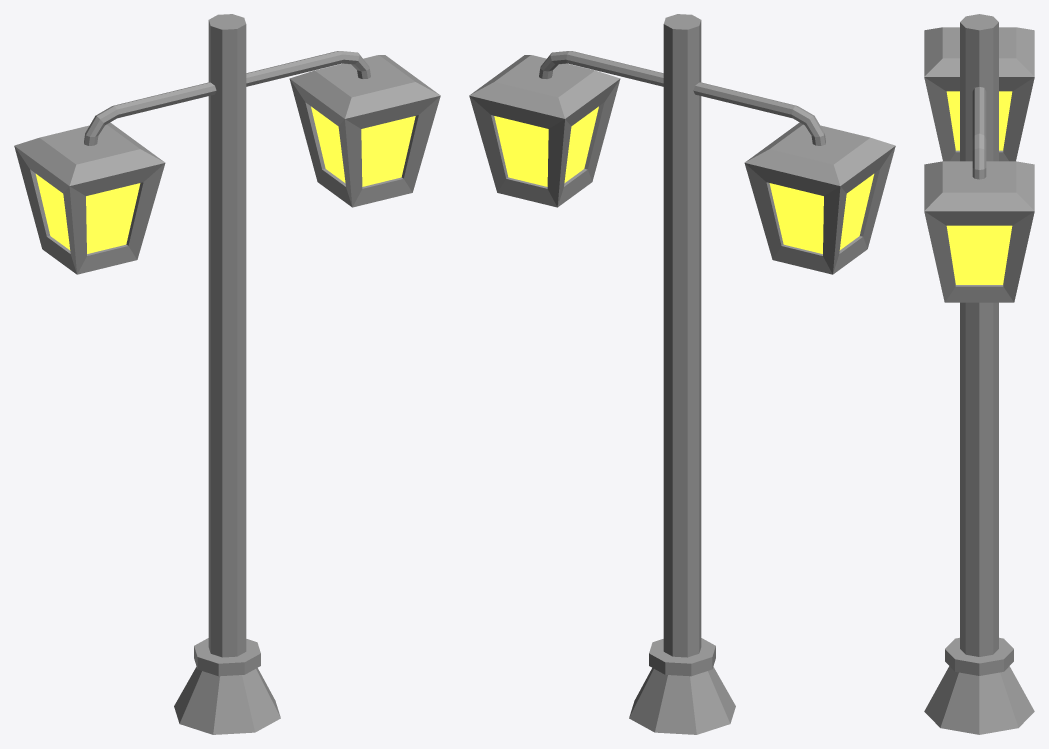
Rendered from Lampione.fbx.
3 views of the same model, side by side, from view 1: azimuth 30°, elevation 25°; view 2: azimuth 150°, elevation 25°; view 3: azimuth 270°, elevation 25° (orthographic).
Visible parts, largest first — view 1: Lampada.001, Corpo, Base, Sostegno.001, Giunto.001; view 2: Lampada.001, Corpo, Base, Sostegno.001, Giunto.001; view 3: Lampada.001, Corpo, Base, Giunto.001, Sostegno.001.
Part boxes in pixels (x1=…): Lampada.001: x1=14, y1=55, x2=440, y2=274; Corpo: x1=208, y1=14, x2=246, y2=657; Base: x1=174, y1=667, x2=280, y2=734; Sostegno.001: x1=84, y1=51, x2=370, y2=145; Giunto.001: x1=194, y1=638, x2=260, y2=676; Lampada.001: x1=469, y1=55, x2=895, y2=274; Corpo: x1=663, y1=14, x2=701, y2=657; Base: x1=629, y1=667, x2=735, y2=734; Sostegno.001: x1=539, y1=51, x2=825, y2=145; Giunto.001: x1=649, y1=638, x2=715, y2=676; Lampada.001: x1=924, y1=27, x2=1034, y2=302; Corpo: x1=960, y1=14, x2=998, y2=656; Base: x1=924, y1=666, x2=1034, y2=734; Giunto.001: x1=945, y1=637, x2=1013, y2=675; Sostegno.001: x1=972, y1=87, x2=986, y2=179.
Size of the model in its own units: 1.55 by 0.4 by 2.75.
